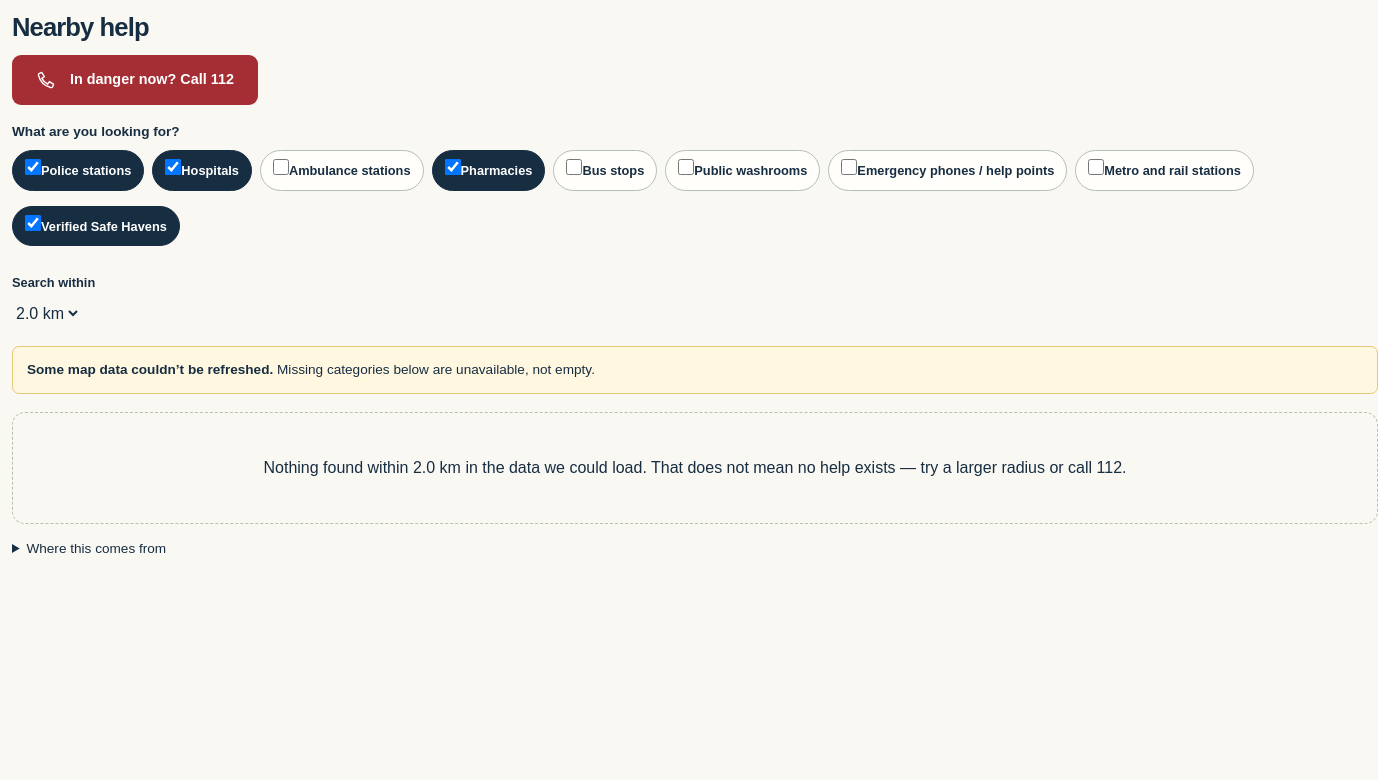
NearbyServices states › distinguishes an empty result from a failed source, and a stale copy from fresh data
The width and height of the screenshot is (1378, 780).
Expected: the text "Some map data couldn’t be refreshed." is shown, [27, 362, 273, 378]
Expected: the text "does not mean no help exists" is shown, [461, 459, 1096, 476]
Click the heading "Where this comes from" at (96, 548), box [26, 541, 166, 556]
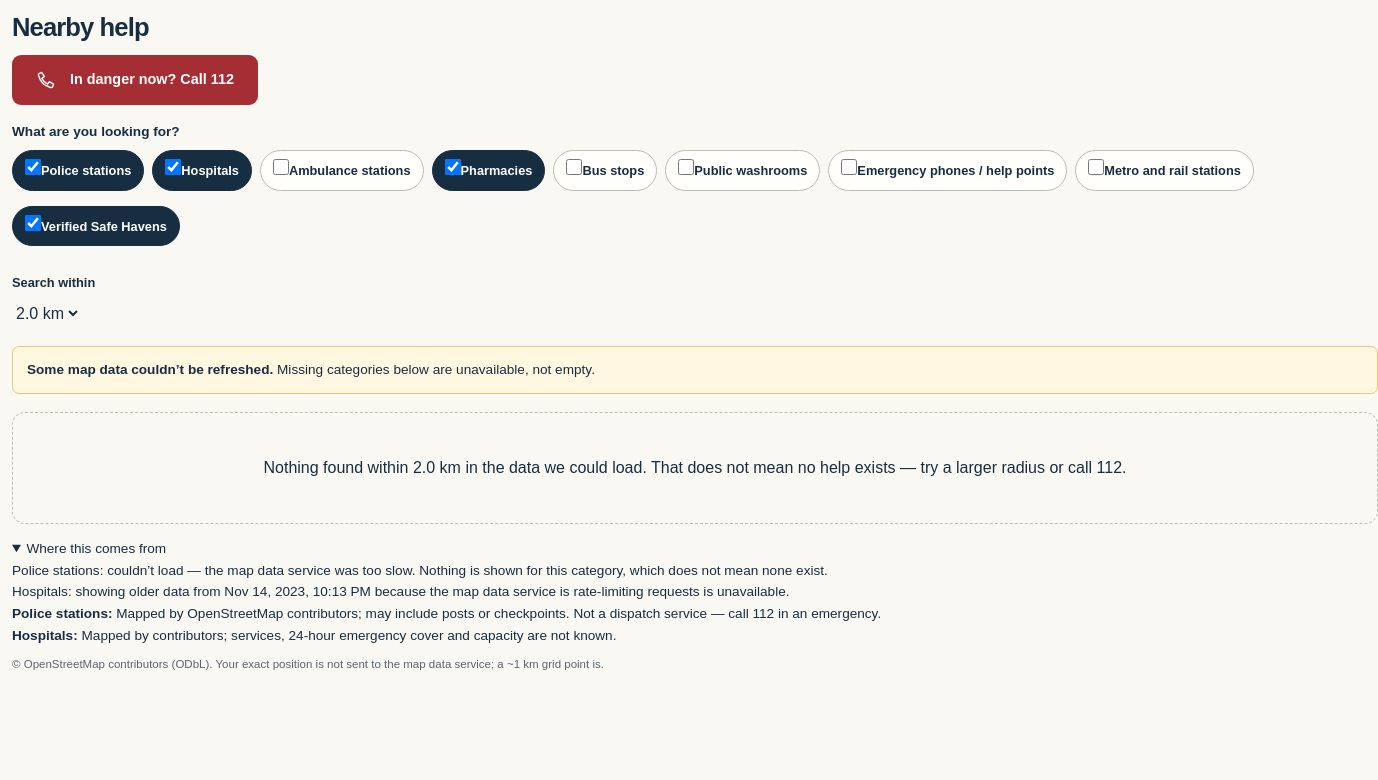
Now the list item "Police stations: couldn’t load — the map data service was too slow" is shown, box [12, 562, 828, 578]
Now the 2nd list item is shown, box [12, 584, 790, 599]
